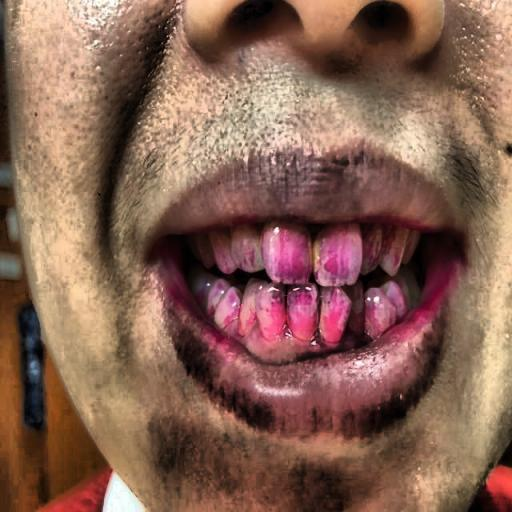Plaque: (187, 208, 425, 342)
